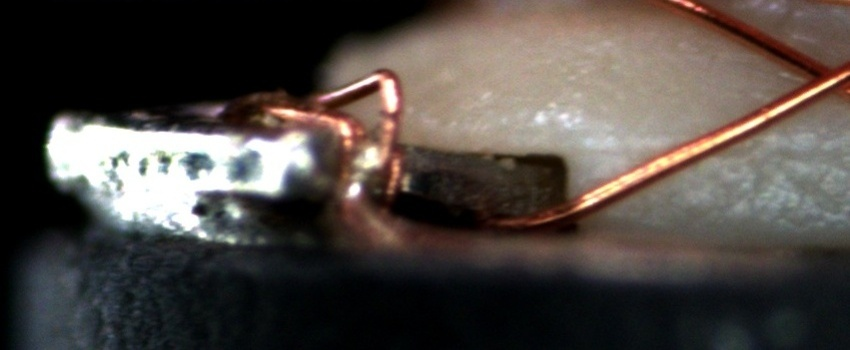CL: (780, 47, 848, 106)
DL: (578, 119, 759, 177)
TE: (234, 59, 418, 208)
